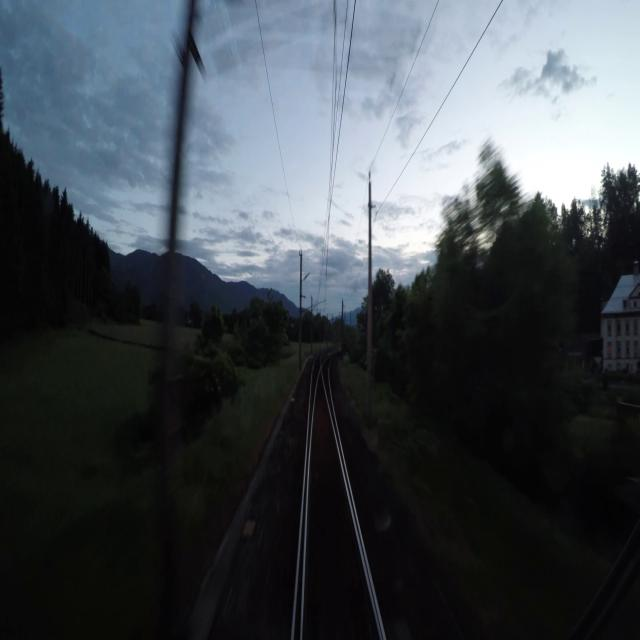rail-track: (304, 377, 378, 639), (295, 578, 300, 639), (312, 357, 319, 398), (323, 361, 329, 399)
